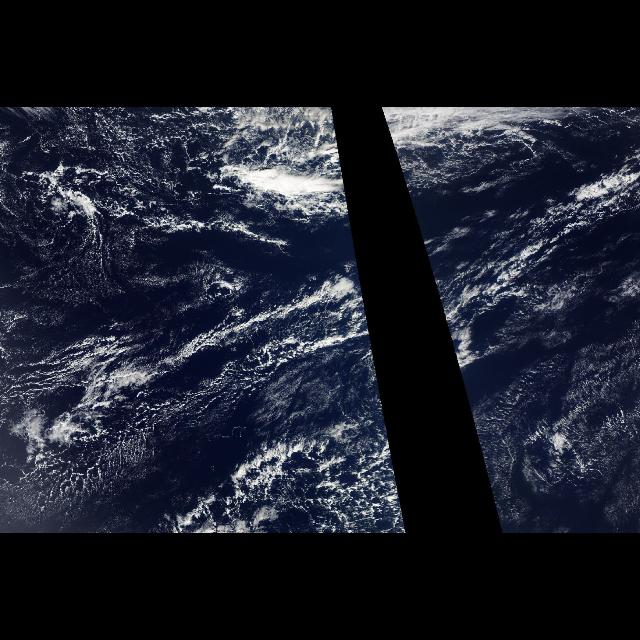Gravel: (9, 318, 407, 534)
Sugar: (2, 318, 374, 474), (462, 342, 640, 534), (0, 107, 152, 295)
